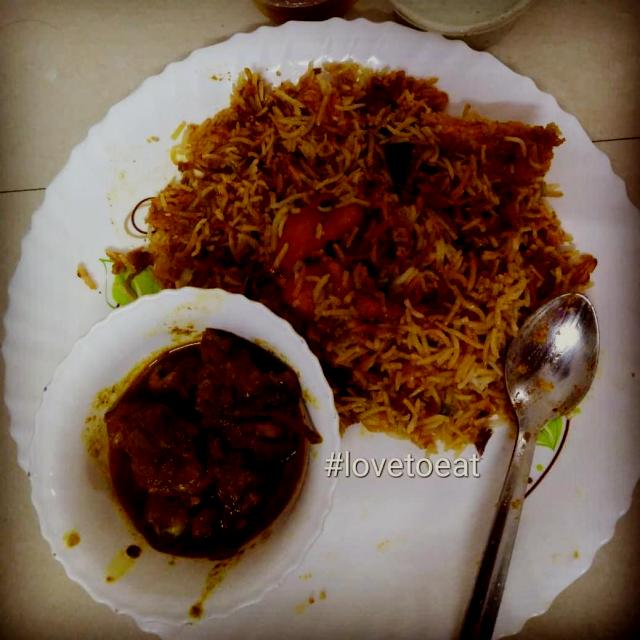biryani: (62, 12, 640, 512)
